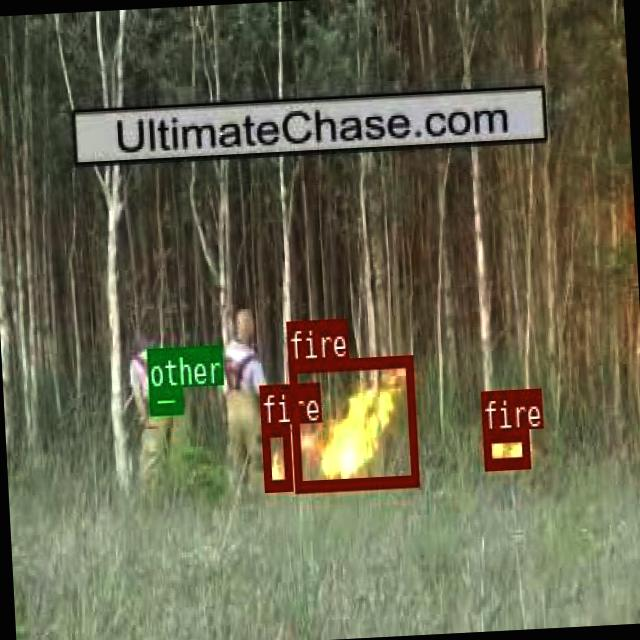fire: (287, 352, 418, 492), (260, 422, 290, 488), (482, 428, 529, 469)
